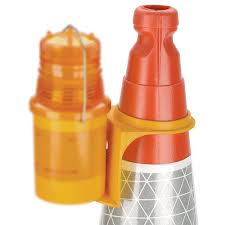cones: (111, 5, 199, 225)
